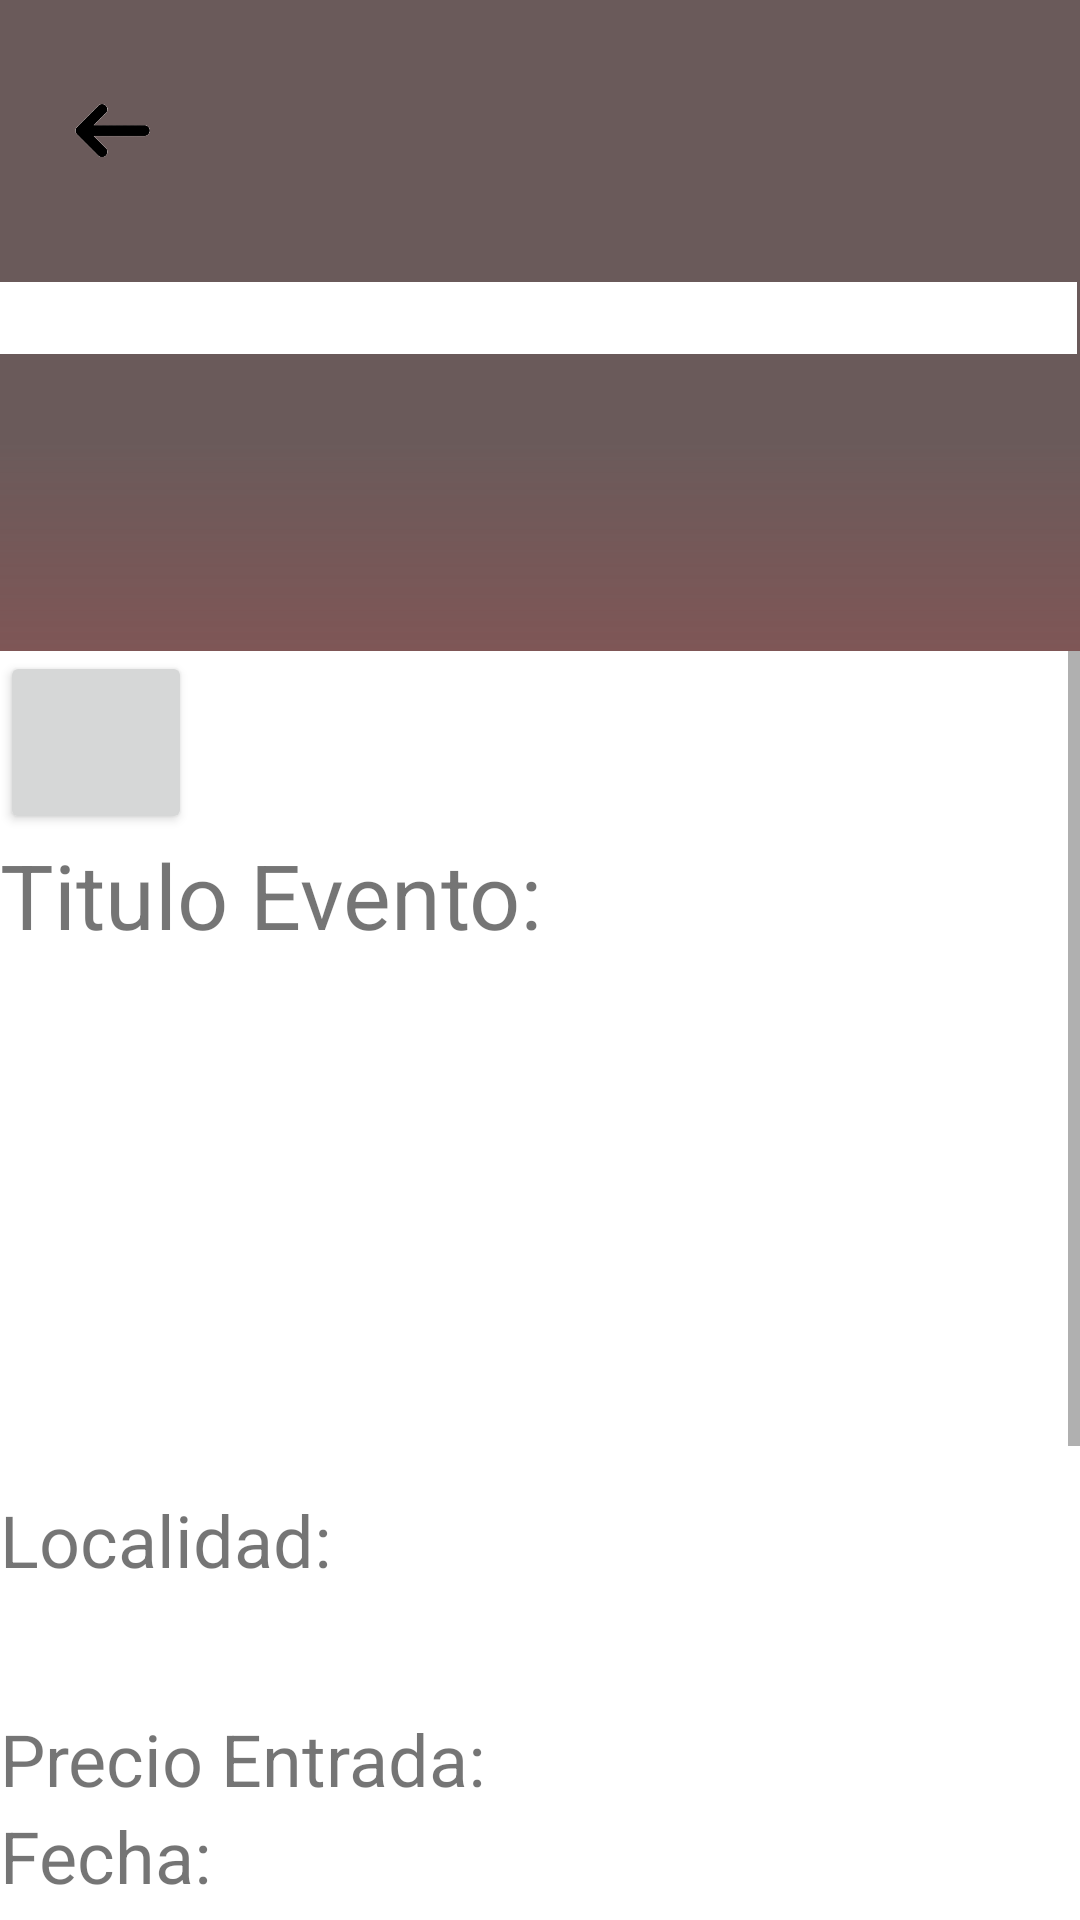

Where icons sit on this 1080 x 1920 app screen, as [left=x1, top=y1, right=x2, bottom=y2]:
atras: [left=75, top=104, right=150, bottom=157]
